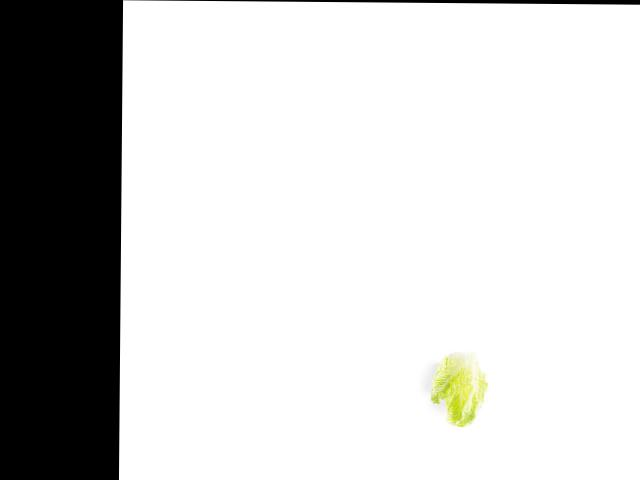lettuce: (429, 344, 490, 431)
